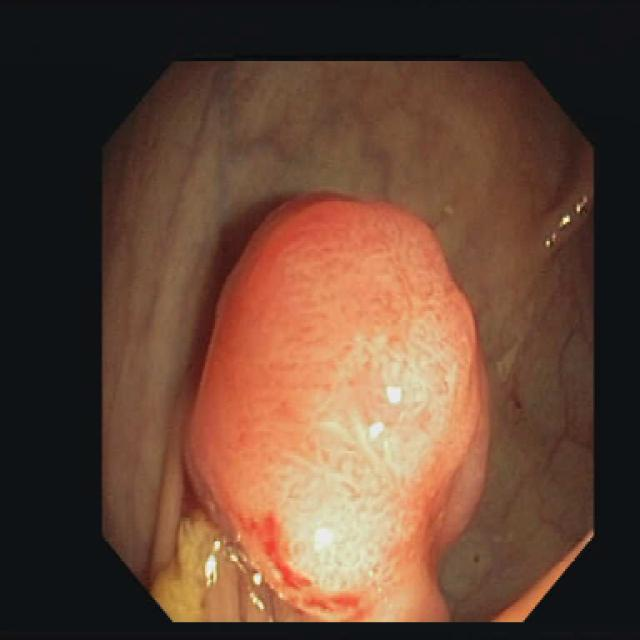tumor: (187, 196, 488, 620)
